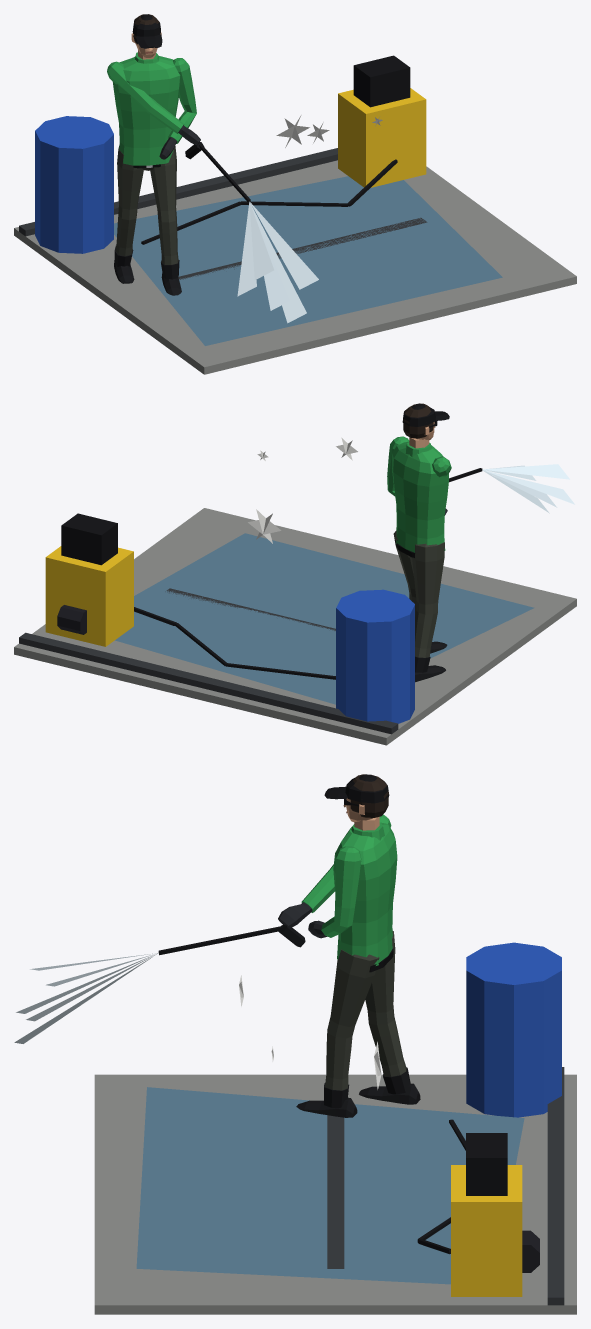
File: bike_wash.glb
3 views of the same model, one above another, from view 1: azimuth 30°, elevation 25°; view 2: azimuth 150°, elevation 25°; view 3: azimuth 270°, elevation 25° (orthographic). The views are drawn at different scales.
Visible parts, largest first — view 1: Pad, Washer, Spray; view 2: Pad, Washer, Spray, Mist2; view 3: Pad, Washer, Spray.
Part boxes in pixels (<box>): Pad: <box>14,55,576,374</box>; Washer: <box>107,14,250,295</box>; Spray: <box>237,201,318,323</box>; Pad: <box>14,508,576,745</box>; Washer: <box>387,403,482,682</box>; Spray: <box>482,464,574,513</box>; Mist2: <box>248,509,281,543</box>; Pad: <box>94,942,576,1314</box>; Washer: <box>158,774,420,1117</box>; Spray: <box>14,953,157,1043</box>.
Bounding box in the file's own units: 2.6 × 1.78 × 2.68.
